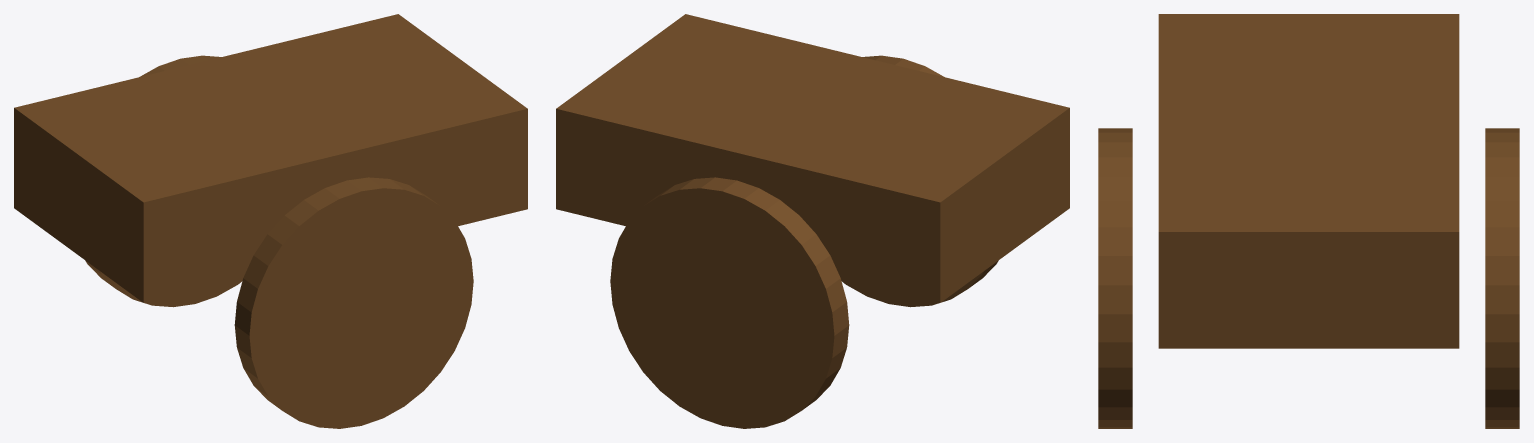
File: cart_test.fbx
The picture shows the model from 3 angles, left to right: view 1: azimuth 30°, elevation 25°; view 2: azimuth 150°, elevation 25°; view 3: azimuth 270°, elevation 25°; orthographic projection. The views are drawn at different scales.
Visible parts, largest first — view 1: hull, wheel_rear_right, wheel_rear_left; view 2: hull, wheel_rear_left, wheel_rear_right; view 3: hull, wheel_rear_left, wheel_rear_right.
Part boxes in pixels (x1,y1,x2,y2): hull: (14,14,527,302); wheel_rear_right: (234,177,473,428); wheel_rear_left: (85,55,242,307); hull: (556,14,1069,302); wheel_rear_left: (610,177,849,428); wheel_rear_right: (841,55,998,307); hull: (1158,14,1459,348); wheel_rear_left: (1485,128,1519,428); wheel_rear_right: (1098,128,1132,428).
Bounding box in the file's own units: 1.2 × 0.75 × 0.98.
1 material, 1 textured.
